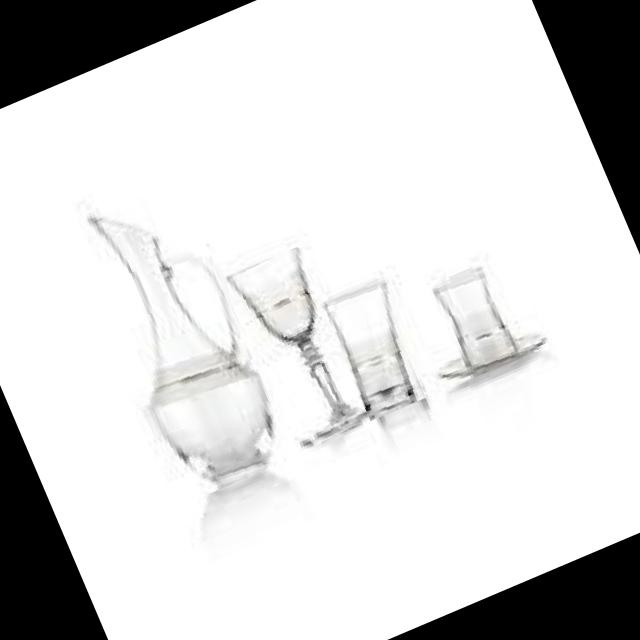Glass: (59, 175, 294, 506), (224, 247, 372, 452), (402, 250, 550, 391), (320, 274, 434, 421)
